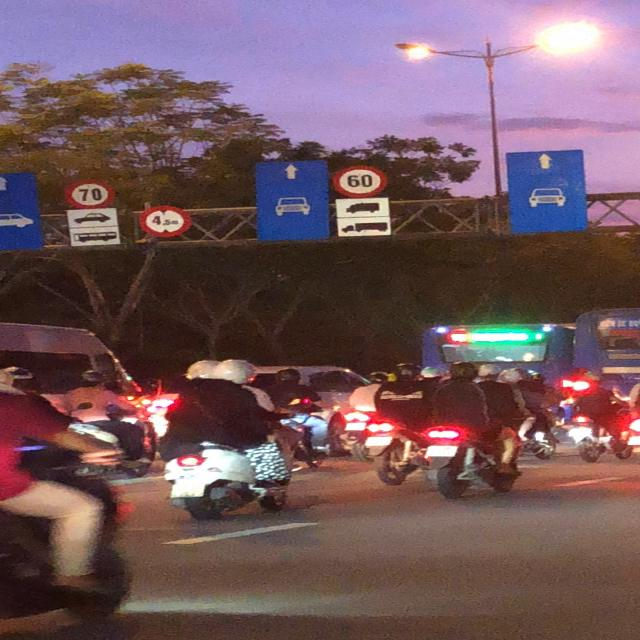Bien bao han che chieu cao: (136, 203, 194, 240)
Bien bao toc do toi da cho phep: (326, 160, 391, 200), (61, 180, 119, 210)
